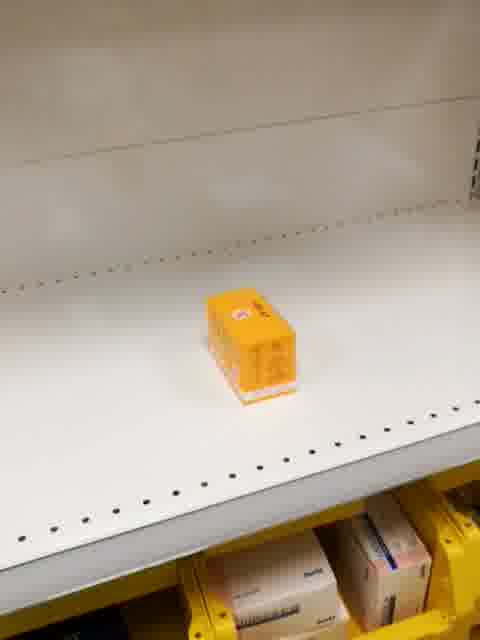jasminetea: (203, 287, 300, 407)
